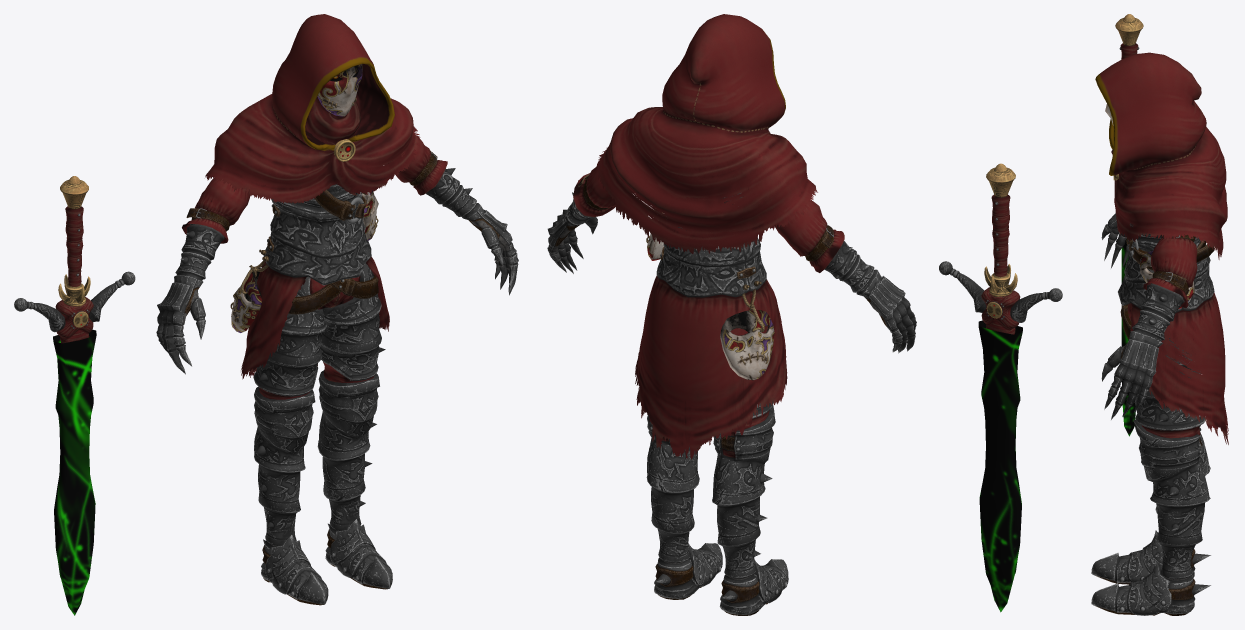
File: fireeee.fbx
The picture shows the model from 3 angles, left to right: view 1: azimuth 30°, elevation 25°; view 2: azimuth 150°, elevation 25°; view 3: azimuth 270°, elevation 25°; orthographic projection. The views are drawn at different scales.
Parts seen in each view (by area): view 1: polySurface1103, polySurface1168; view 2: polySurface1103, polySurface1168; view 3: polySurface1103, polySurface1168.
Boxes of the visible parts, <box> form: polySurface1103: <box>156,14,518,605</box>; polySurface1168: <box>14,176,135,615</box>; polySurface1103: <box>547,14,916,615</box>; polySurface1168: <box>939,163,1062,612</box>; polySurface1103: <box>1091,52,1228,615</box>; polySurface1168: <box>1115,14,1143,436</box>.
Bounding box in the file's own units: 189 × 204 × 47.83.
